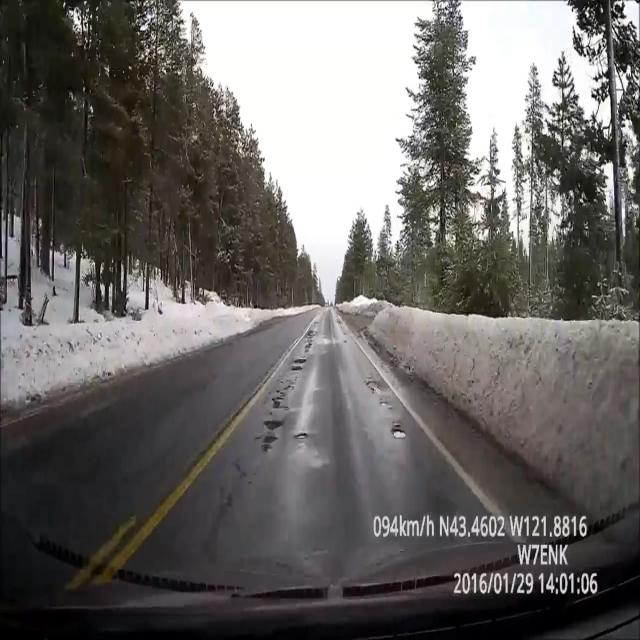Pothole: (360, 370, 393, 413), (292, 424, 318, 450), (386, 416, 410, 442)
